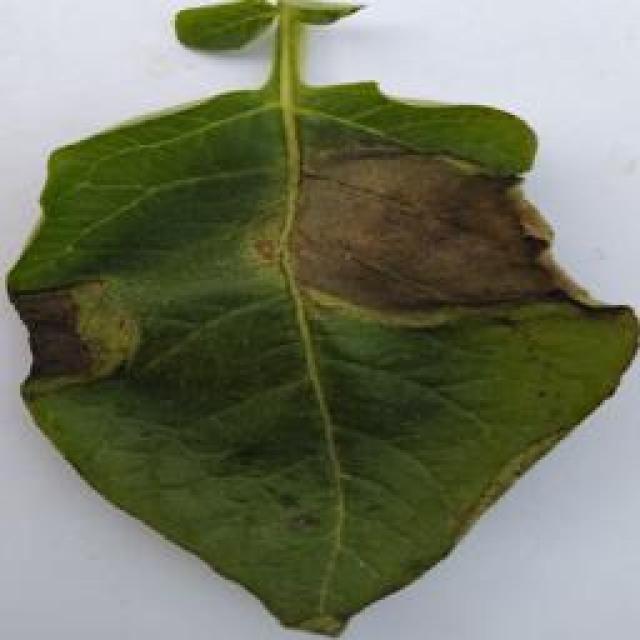Potato_Late_Blight: (7, 6, 621, 634)
